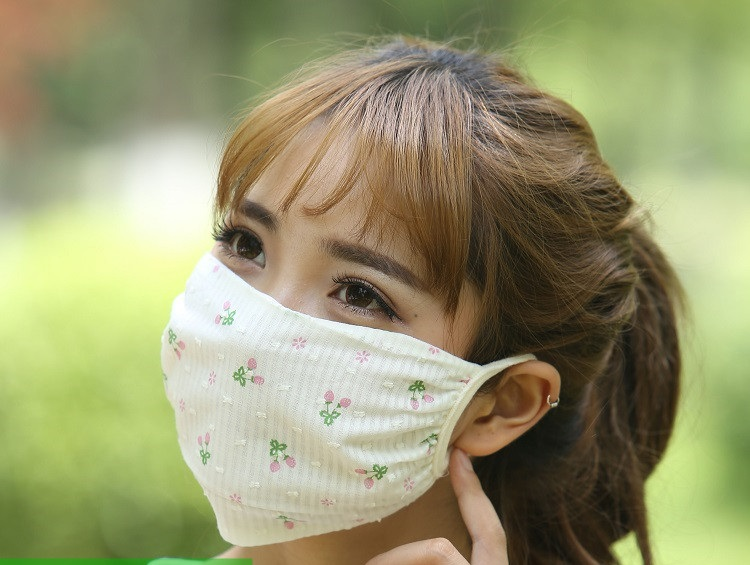face_mask: (159, 117, 471, 542)
